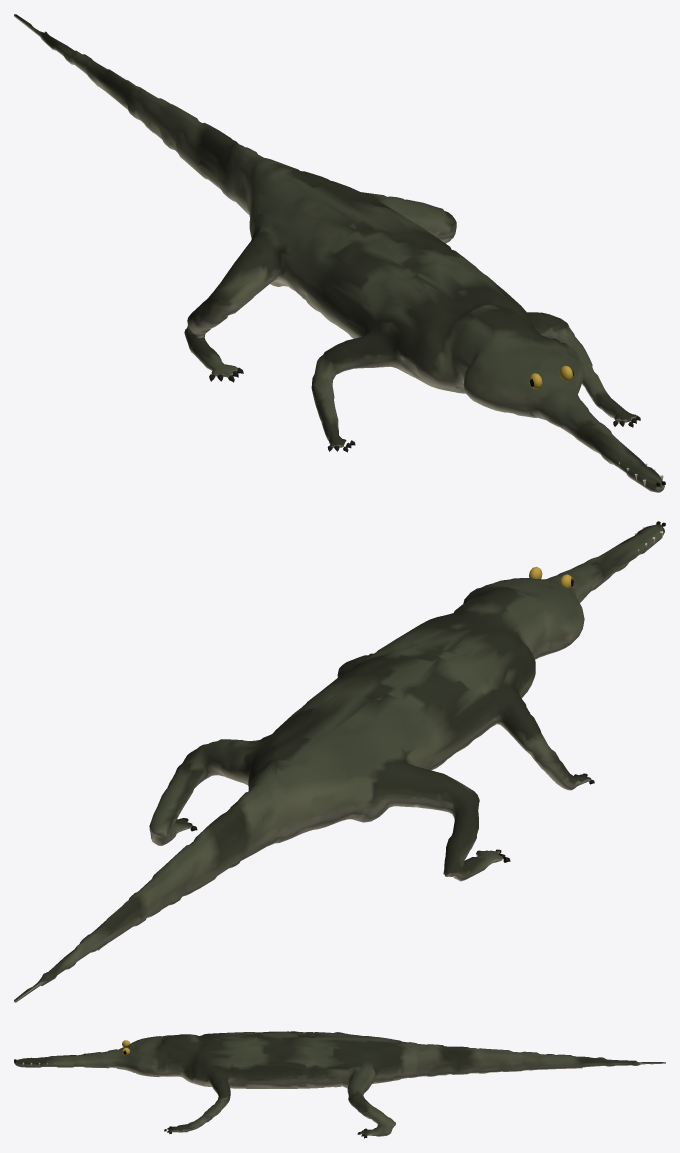
Rendered from Champsosaurus.fbx.
3 renders of one model, top to bottom at view 1: azimuth 30°, elevation 25°; view 2: azimuth 150°, elevation 25°; view 3: azimuth 270°, elevation 25°, orthographic. The views are drawn at different scales.
Visible parts, largest first — view 1: Champsosaurus; view 2: Champsosaurus; view 3: Champsosaurus.
Boxes of the visible parts, bbox=[...] form: Champsosaurus: bbox=[14, 14, 665, 492]; Champsosaurus: bbox=[14, 521, 665, 1002]; Champsosaurus: bbox=[14, 1031, 665, 1138].
Size of the model in its own units: 0.4517 by 0.1914 by 1.69.
